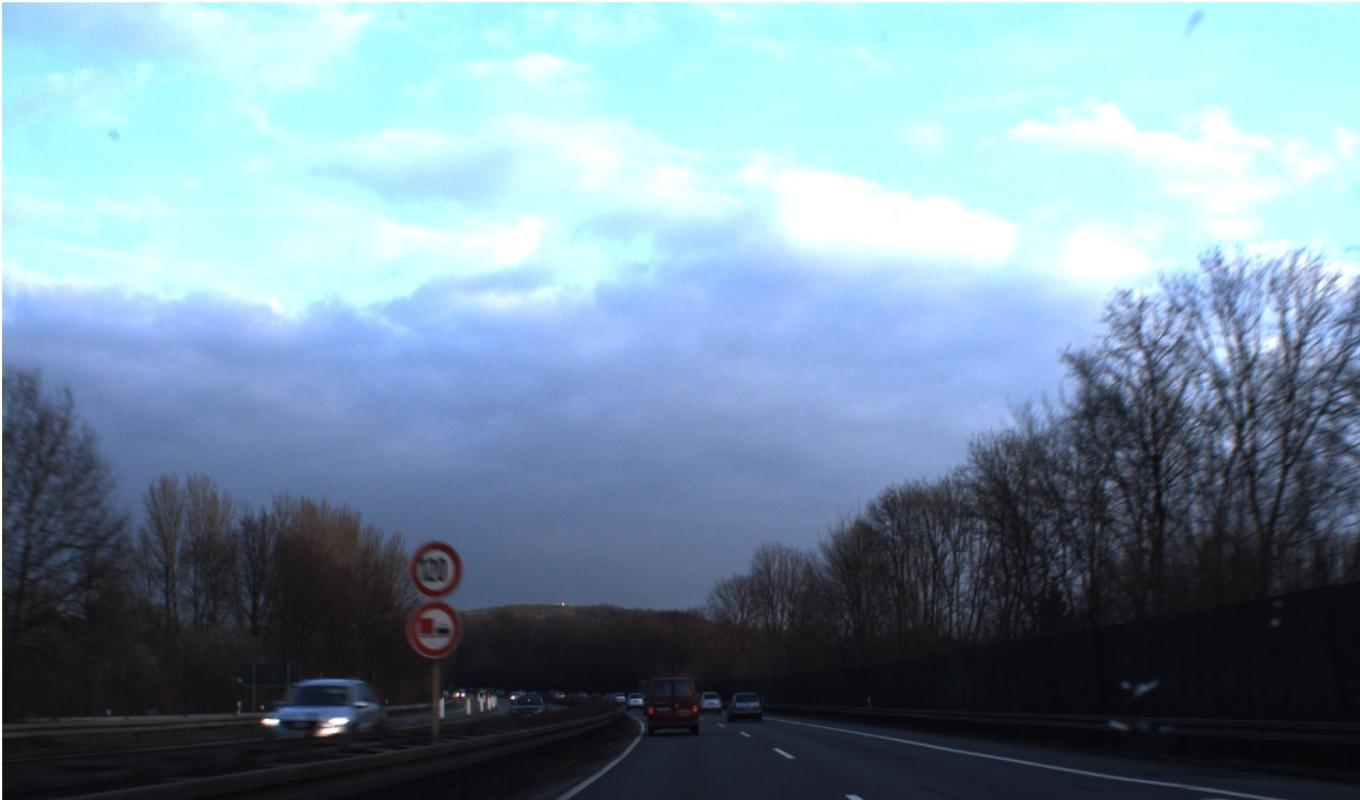speed limit 120: (405, 540, 462, 659)
